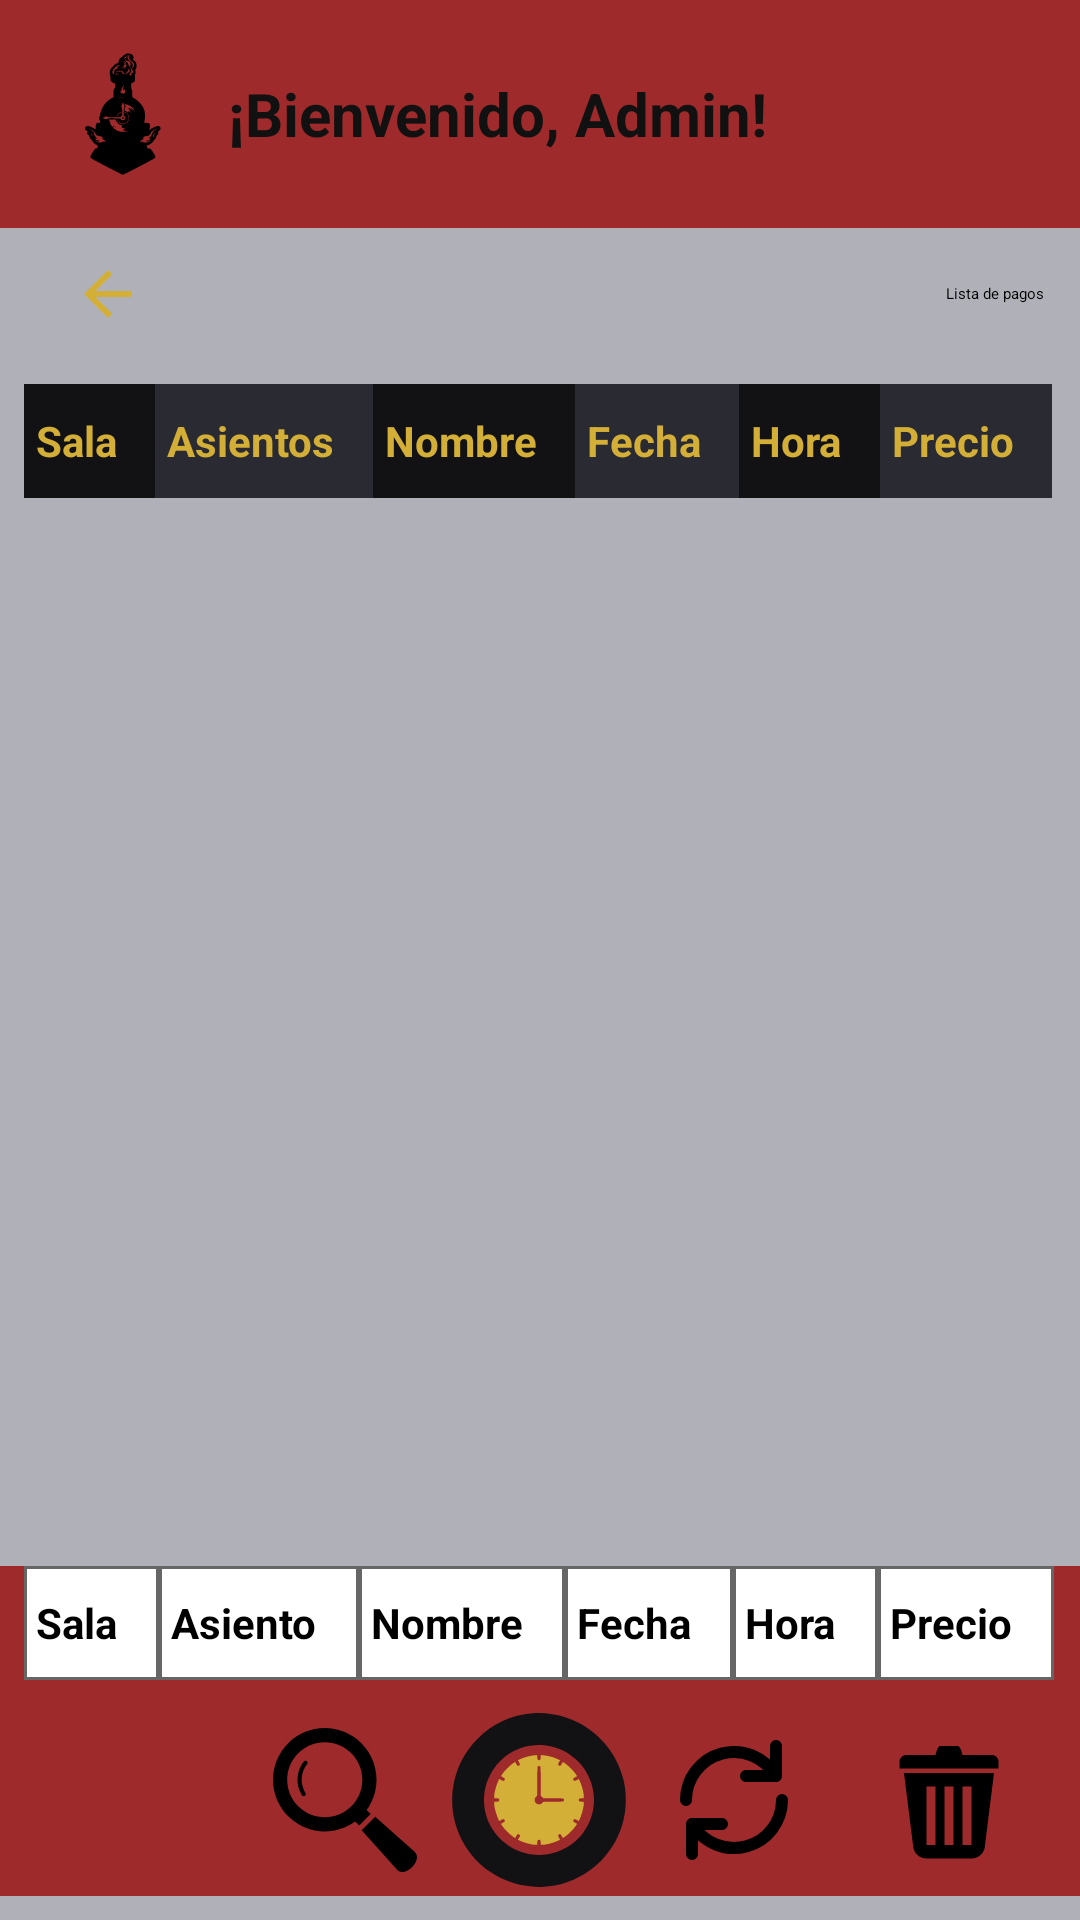

Named icons in this screenshot (1080w x 1920h) and their bounding boxes, Rect(x1, y1, x2, y2):
Actualizar: Rect(680, 1740, 788, 1860)
Buscar: Rect(273, 1728, 417, 1872)
Eliminar: Rect(899, 1746, 999, 1859)
